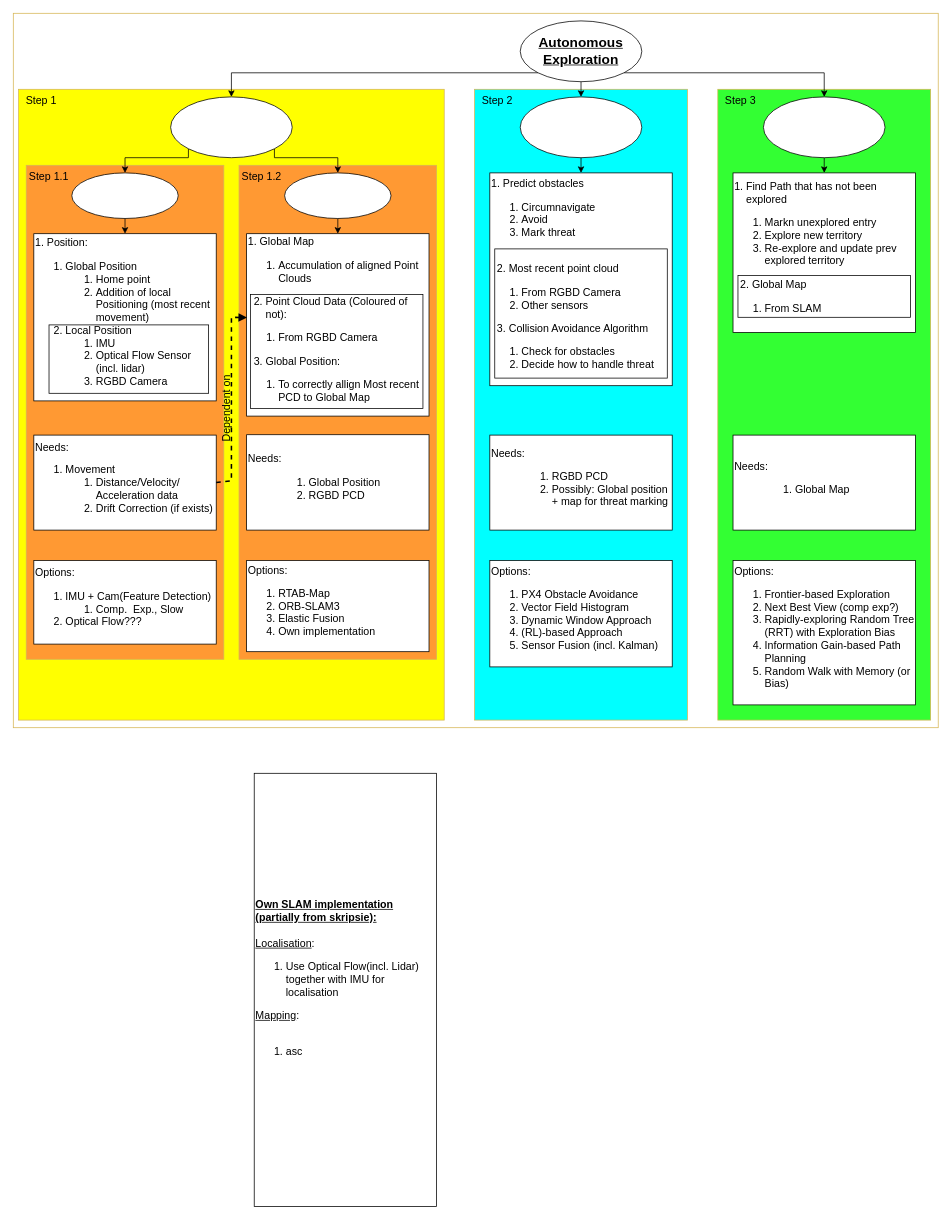
The diagram is 952 pixels wide and 1220 high, and some of its shapes have lost their labels. Each missing label, with the centre of its shape:
"Collision Avoidance" belongs at point 580,127.
"Localization" belongs at point 124,195.
"Mapping" belongs at point 337,195.
"Path Planning" belongs at point 824,127.
"SLAM" belongs at point 231,127.
